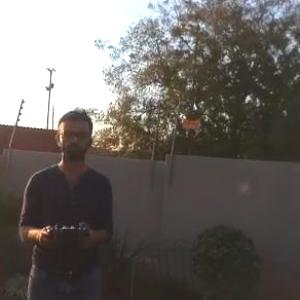follow: (17, 103, 122, 299)
